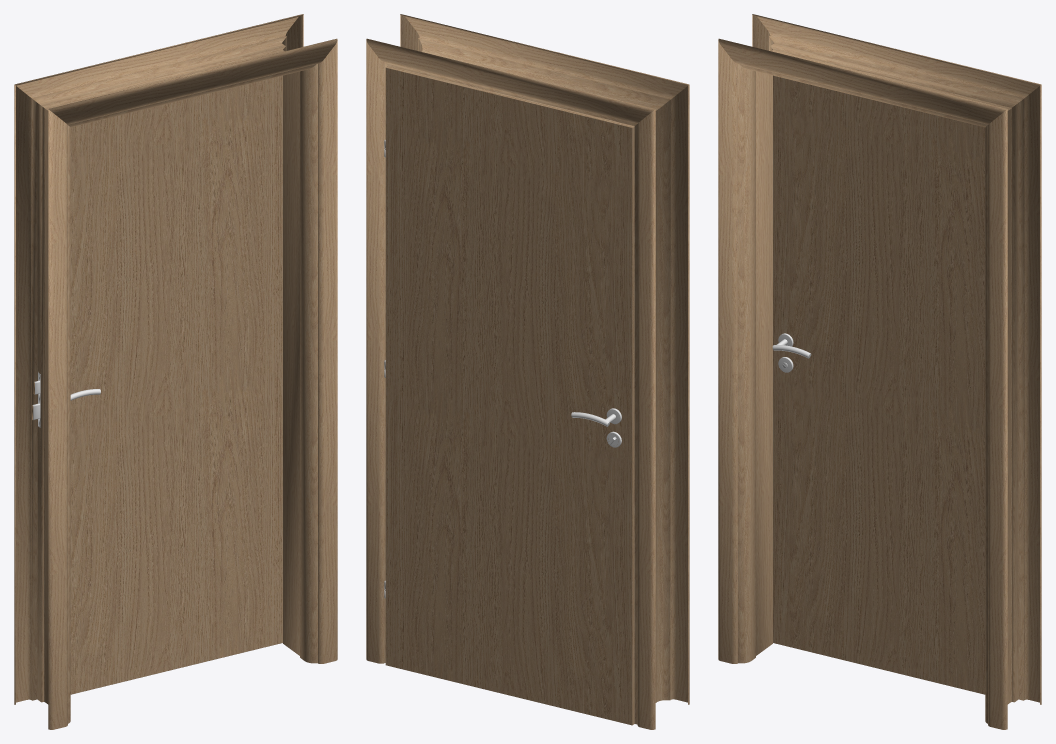
File: wooden_door.glb
The picture shows the model from 3 angles, left to right: view 1: azimuth 30°, elevation 25°; view 2: azimuth 150°, elevation 25°; view 3: azimuth 330°, elevation 25°; orthographic projection.
Parts seen in each view (by area): view 1: door MF leaf, door MF frame; view 2: door MF leaf, door MF frame; view 3: door MF leaf, door MF frame.
Boxes of the visible parts, x1,y1,x2,y2 form: door MF leaf: (70, 75, 282, 694); door MF frame: (14, 14, 337, 729); door MF leaf: (384, 66, 634, 725); door MF frame: (366, 14, 689, 729); door MF leaf: (772, 75, 985, 694); door MF frame: (718, 14, 1041, 729).
Bounding box in the file's own units: 1.03 × 2.11 × 0.2996.
Materials: 2 (1 with a texture image).
